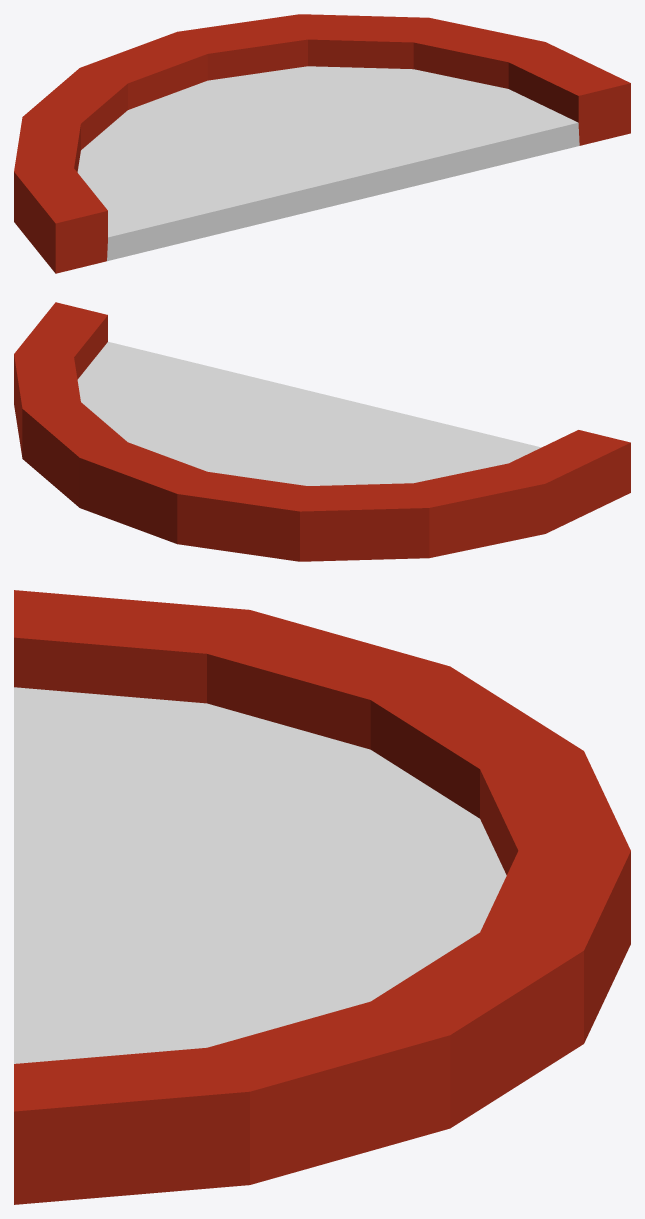
File: EdgeLights.fbx
3 views of the same model, one above another, from view 1: azimuth 30°, elevation 25°; view 2: azimuth 150°, elevation 25°; view 3: azimuth 270°, elevation 25° (orthographic). The views are drawn at different scales.
Visible parts, largest first — view 1: Circle.004; view 2: Circle.004; view 3: Circle.004.
Part boxes in pixels (x1,y1,x2,y2): Circle.004: (14, 14, 630, 273); Circle.004: (14, 302, 630, 561); Circle.004: (14, 590, 630, 1204).
Bounding box in the file's own units: 27.03 × 2.26 × 13.52.
